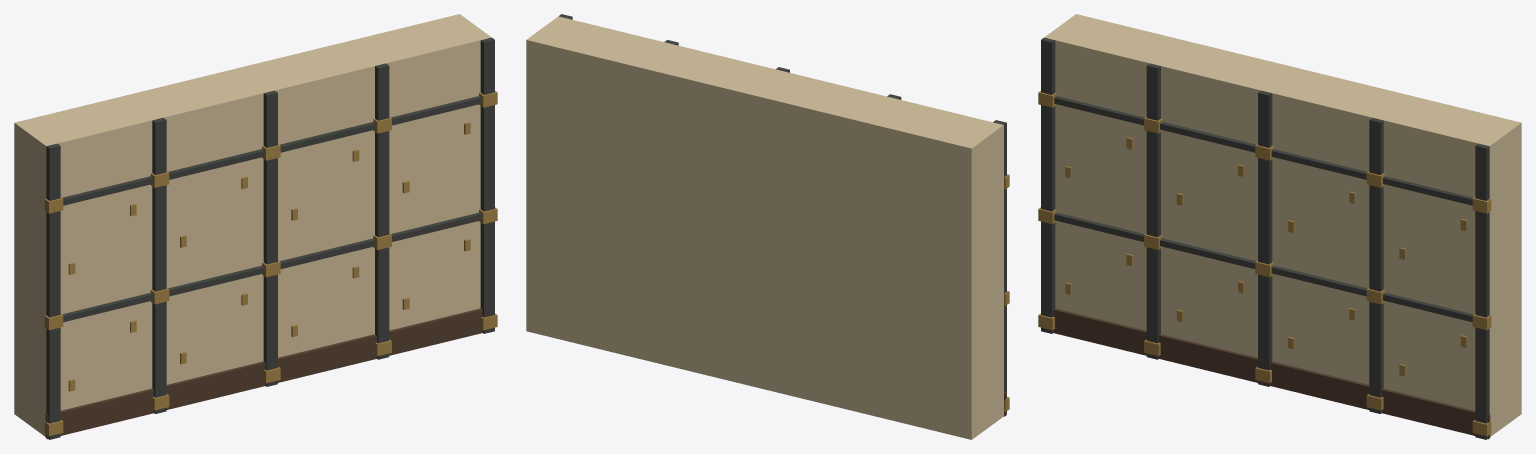
Rendered from retaining_a.glb.
3 views of the same model, side by side, from view 1: azimuth 30°, elevation 25°; view 2: azimuth 150°, elevation 25°; view 3: azimuth 330°, elevation 25° (orthographic).
Parts seen in each view (by area): view 1: retaining_a; view 2: retaining_a; view 3: retaining_a.
Part boxes in pixels (bbox=[...]): retaining_a: bbox=[14, 14, 497, 439]; retaining_a: bbox=[526, 14, 1009, 439]; retaining_a: bbox=[1038, 14, 1521, 439].
Bounding box in the file's own units: 8.06 × 5 × 1.13.
